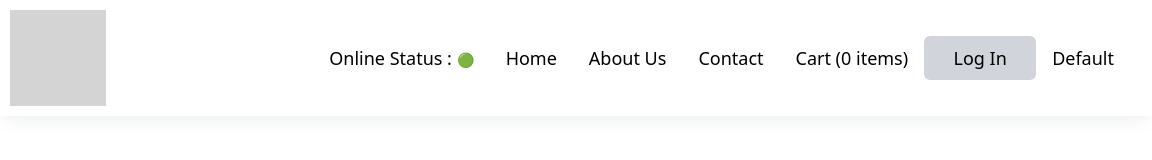
Scenario: should render Header Component › should have a login button which changes to Logout button on click
Click the button: (980, 58) 924,36 -> 1036,80
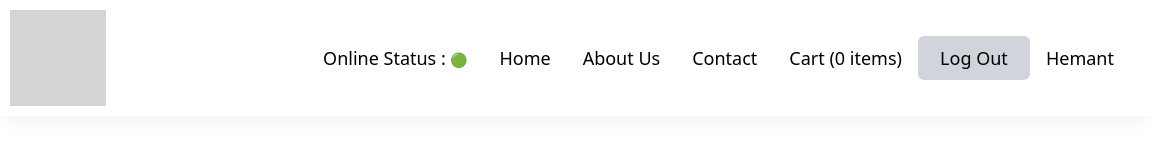
Check: the button "Log Out" is shown, box 918,36 -> 1030,80
